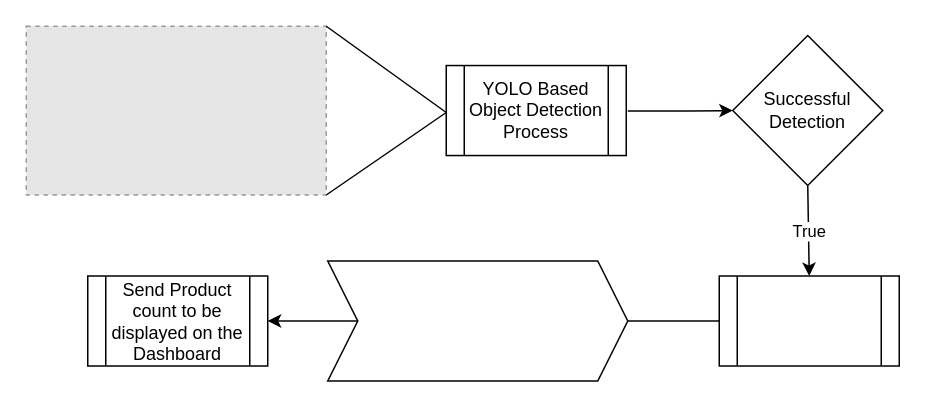
This 926x408 diagram has some shape labels left out. Grey dashed boxes stand in for pictures. Each missing label, with the centre of its shape:
Track and Count Objects: (808,320)
Update Database for detected and counted objects: (477,320)
